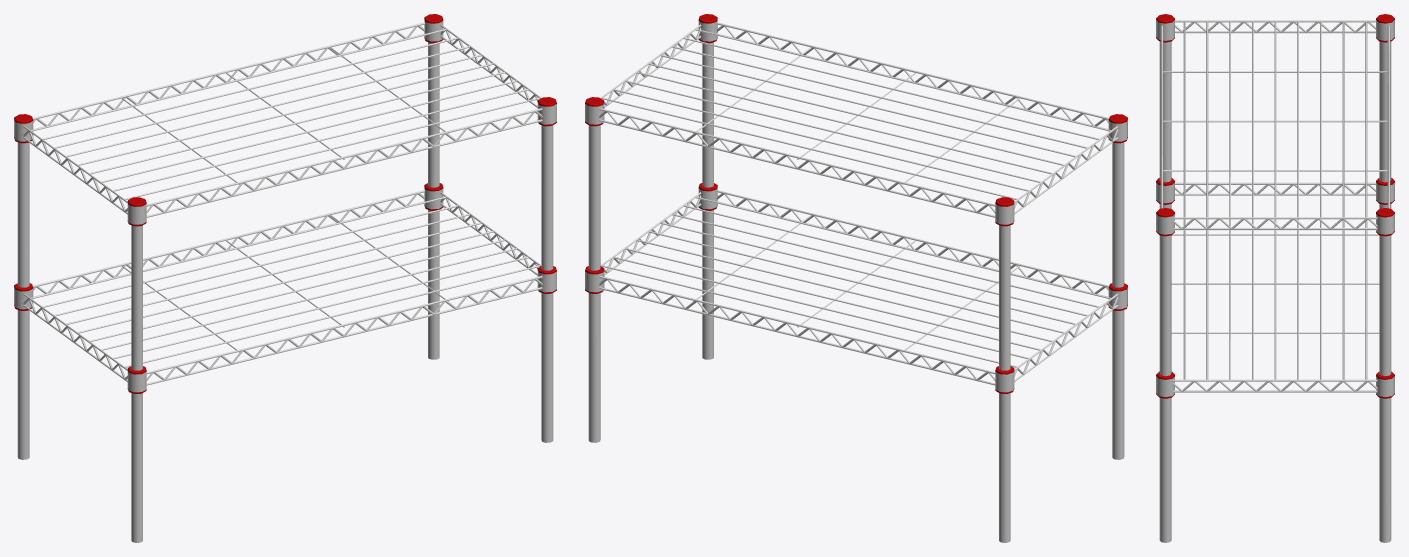
The model's file is Shelf01b.fbx.
3 renders of one model, left to right at view 1: azimuth 30°, elevation 25°; view 2: azimuth 150°, elevation 25°; view 3: azimuth 270°, elevation 25°, orthographic. The views are drawn at different scales.
Parts seen in each view (by area): view 1: Shelf01b; view 2: Shelf01b; view 3: Shelf01b.
Part boxes in pixels (x1,y1,x2,y2): Shelf01b: [14, 14, 556, 542]; Shelf01b: [585, 14, 1127, 542]; Shelf01b: [1156, 14, 1394, 542].
Size of the model in its own units: 100 by 76 by 50.
